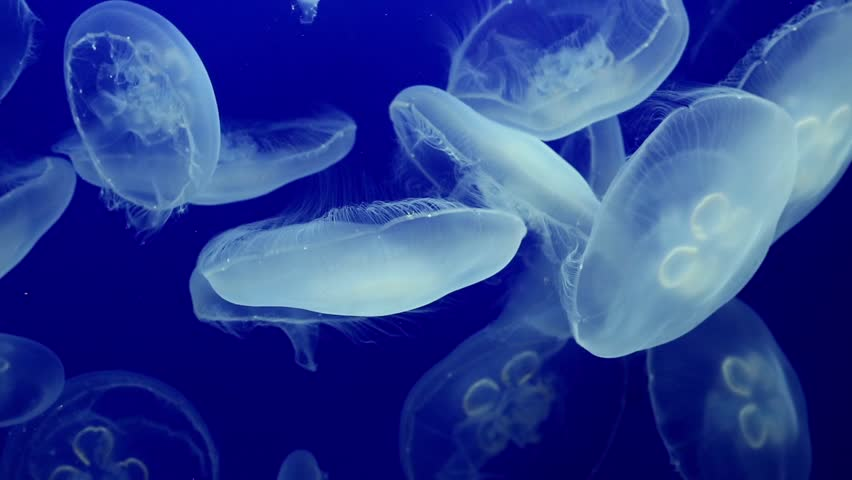jellyfish: (549, 83, 800, 355), (370, 75, 614, 235), (54, 4, 223, 228), (434, 2, 706, 131), (186, 213, 517, 318)
